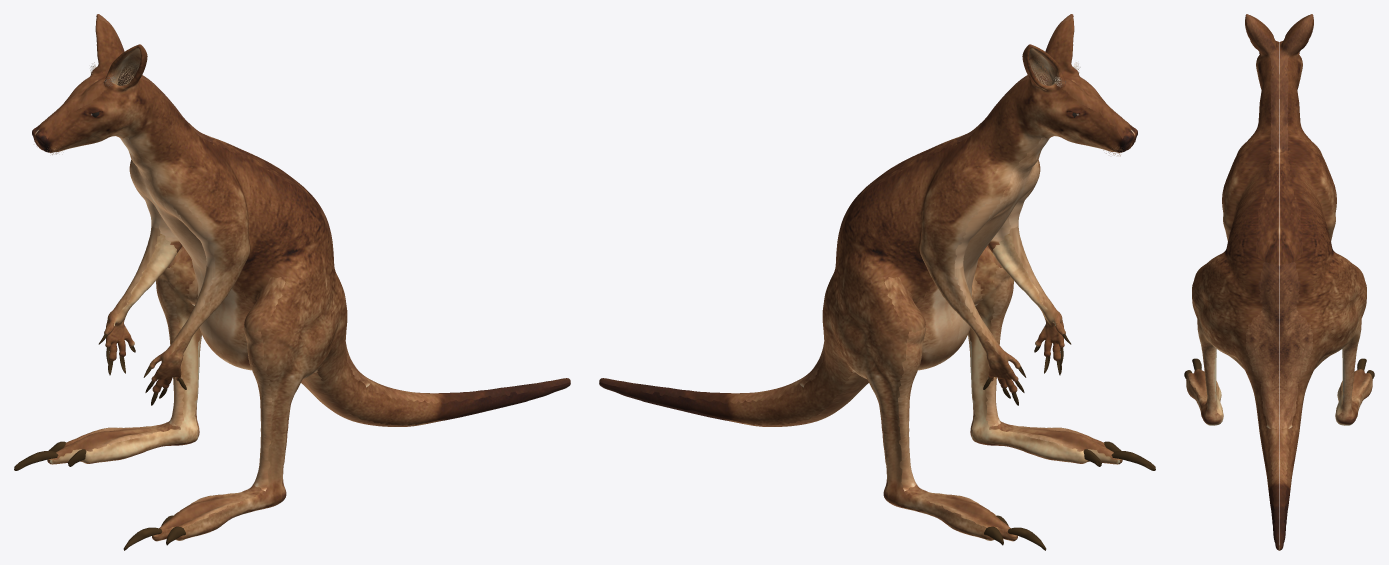
Rendered from kangaroo.glb.
3 views of the same model, side by side, from view 1: azimuth 30°, elevation 25°; view 2: azimuth 150°, elevation 25°; view 3: azimuth 270°, elevation 25° (orthographic). The views are drawn at different scales.
Visible parts, largest first — view 1: 01kangaroo; view 2: 01kangaroo; view 3: 01kangaroo.
Boxes of the visible parts, left/top/right/bottom form: 01kangaroo: left=32, top=14, right=570, bottom=541; 01kangaroo: left=599, top=14, right=1137, bottom=541; 01kangaroo: left=1186, top=14, right=1372, bottom=550.
Bounding box in the file's own units: 0.6338 × 0.5326 × 0.2495.
Materials: 11 (9 with a texture image).
